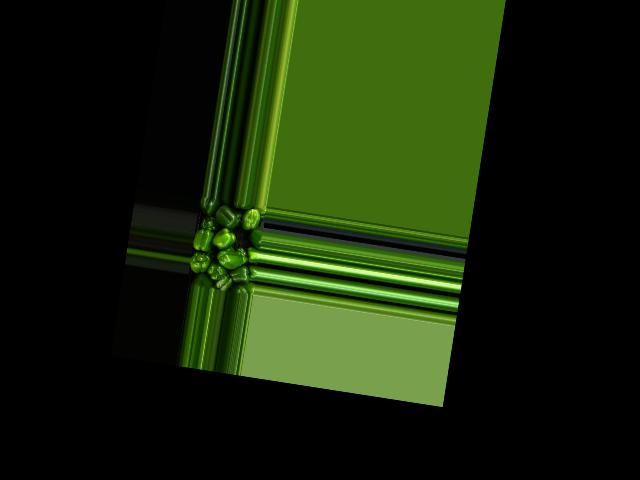bell_pepper: (195, 272, 216, 290)
